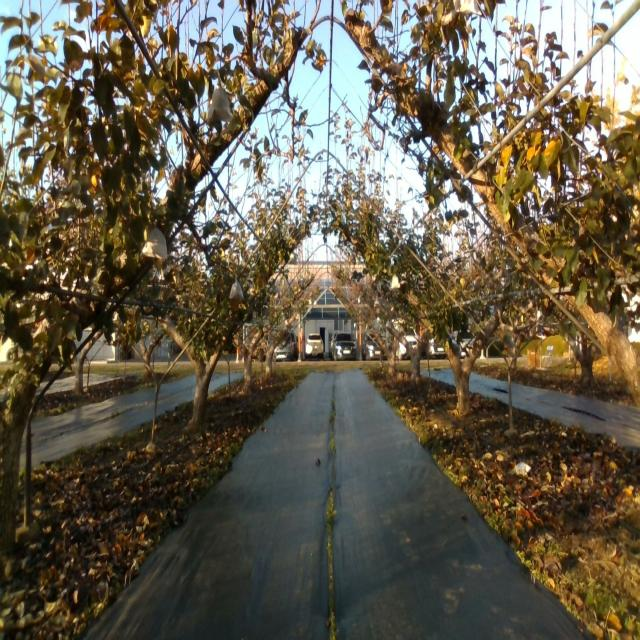pearbags: (207, 85, 233, 124), (142, 228, 168, 260), (230, 279, 243, 298)
